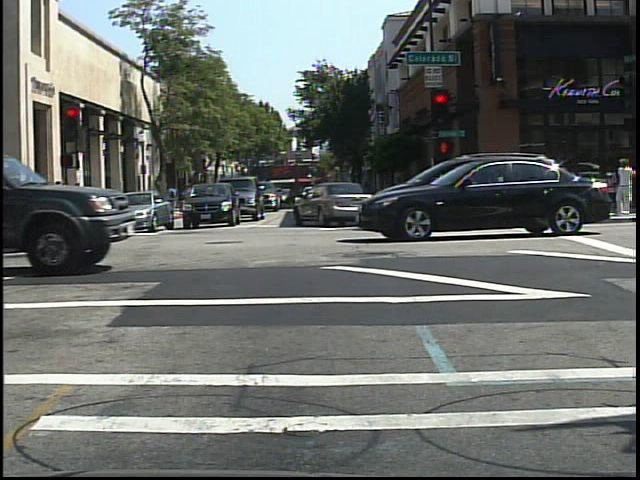person: (615, 153, 637, 218), (163, 180, 181, 220)
